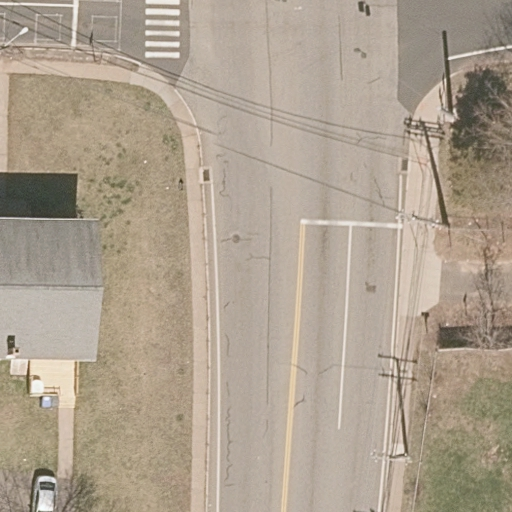DT: (396, 208, 451, 233), (370, 445, 414, 467)
